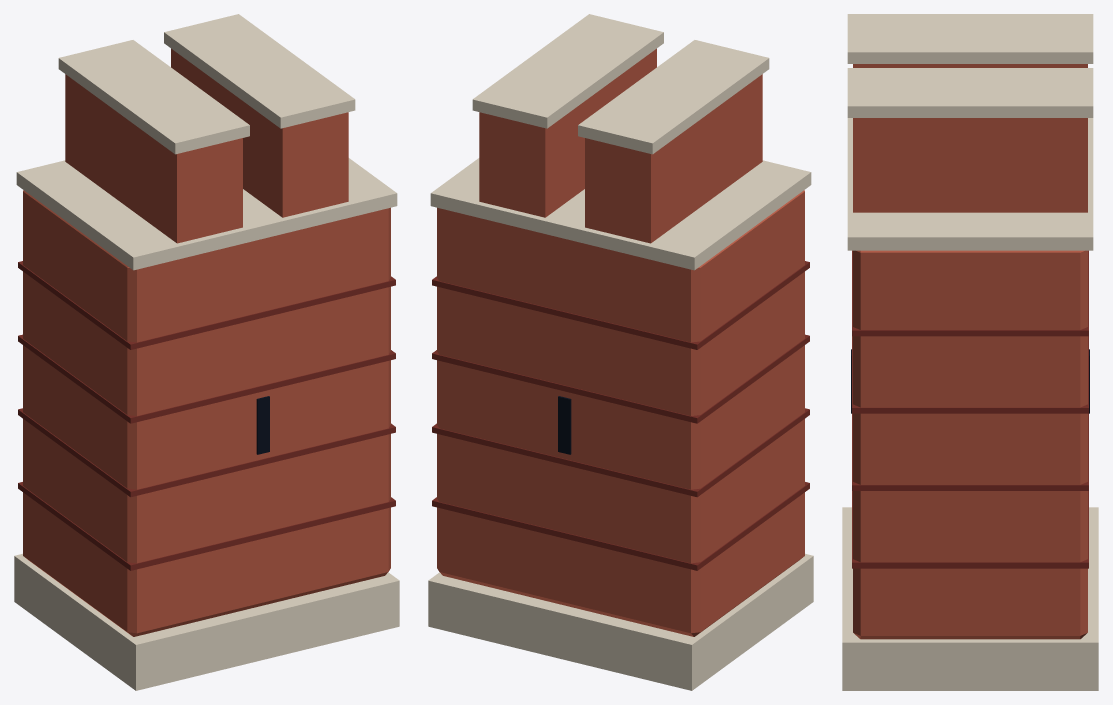
File: bld_kremlin_wall_short.glb
The picture shows the model from 3 angles, left to right: view 1: azimuth 30°, elevation 25°; view 2: azimuth 150°, elevation 25°; view 3: azimuth 270°, elevation 25°; orthographic projection. The views are drawn at different scales.
Parts seen in each view (by area): view 1: bld_kremlin_wall_short; view 2: bld_kremlin_wall_short; view 3: bld_kremlin_wall_short.
Boxes of the visible parts, <box> form: bld_kremlin_wall_short: <box>14,14,399,690</box>; bld_kremlin_wall_short: <box>428,14,813,690</box>; bld_kremlin_wall_short: <box>842,14,1098,690</box>.
Size of the model in its own units: 3.02 by 5.82 by 2.4.
1 material, 1 textured.
